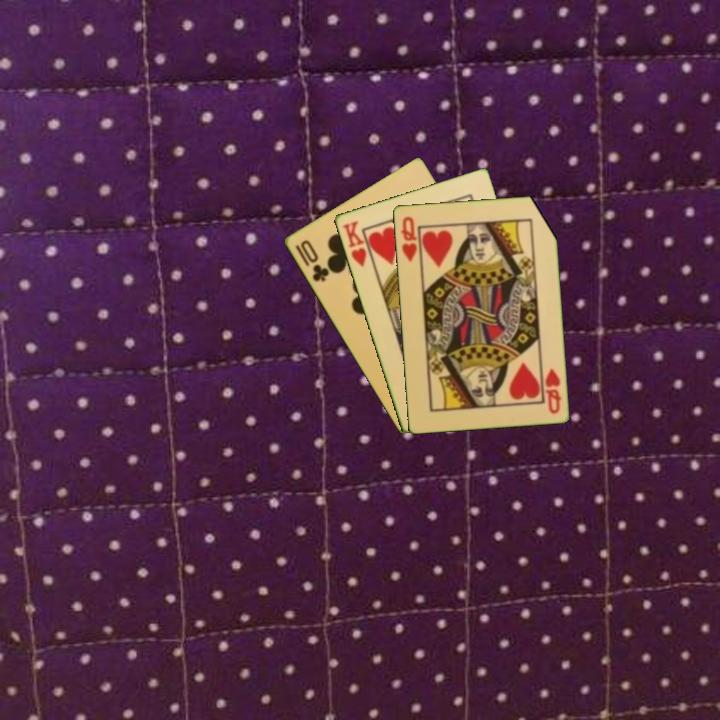10c: (291, 236, 332, 285)
Kh: (339, 217, 376, 269)
Qh: (397, 213, 422, 266), (541, 365, 564, 416)
